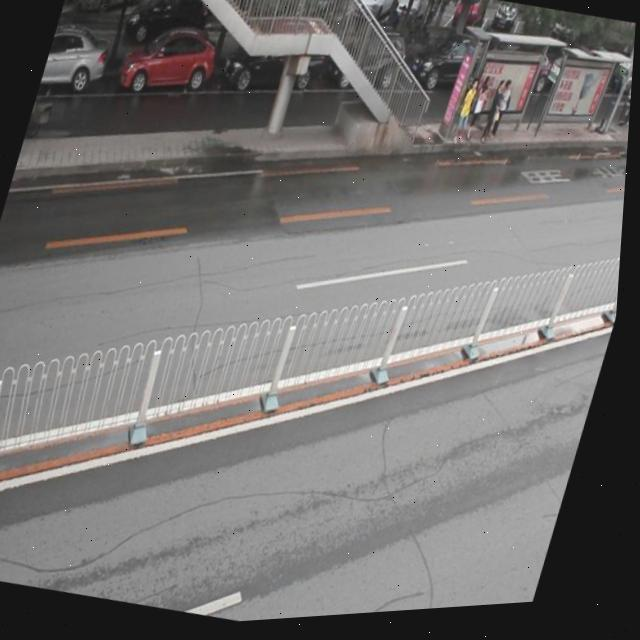car: (219, 9, 334, 108), (112, 16, 224, 113), (406, 26, 493, 107), (326, 24, 412, 104), (40, 20, 114, 99)
